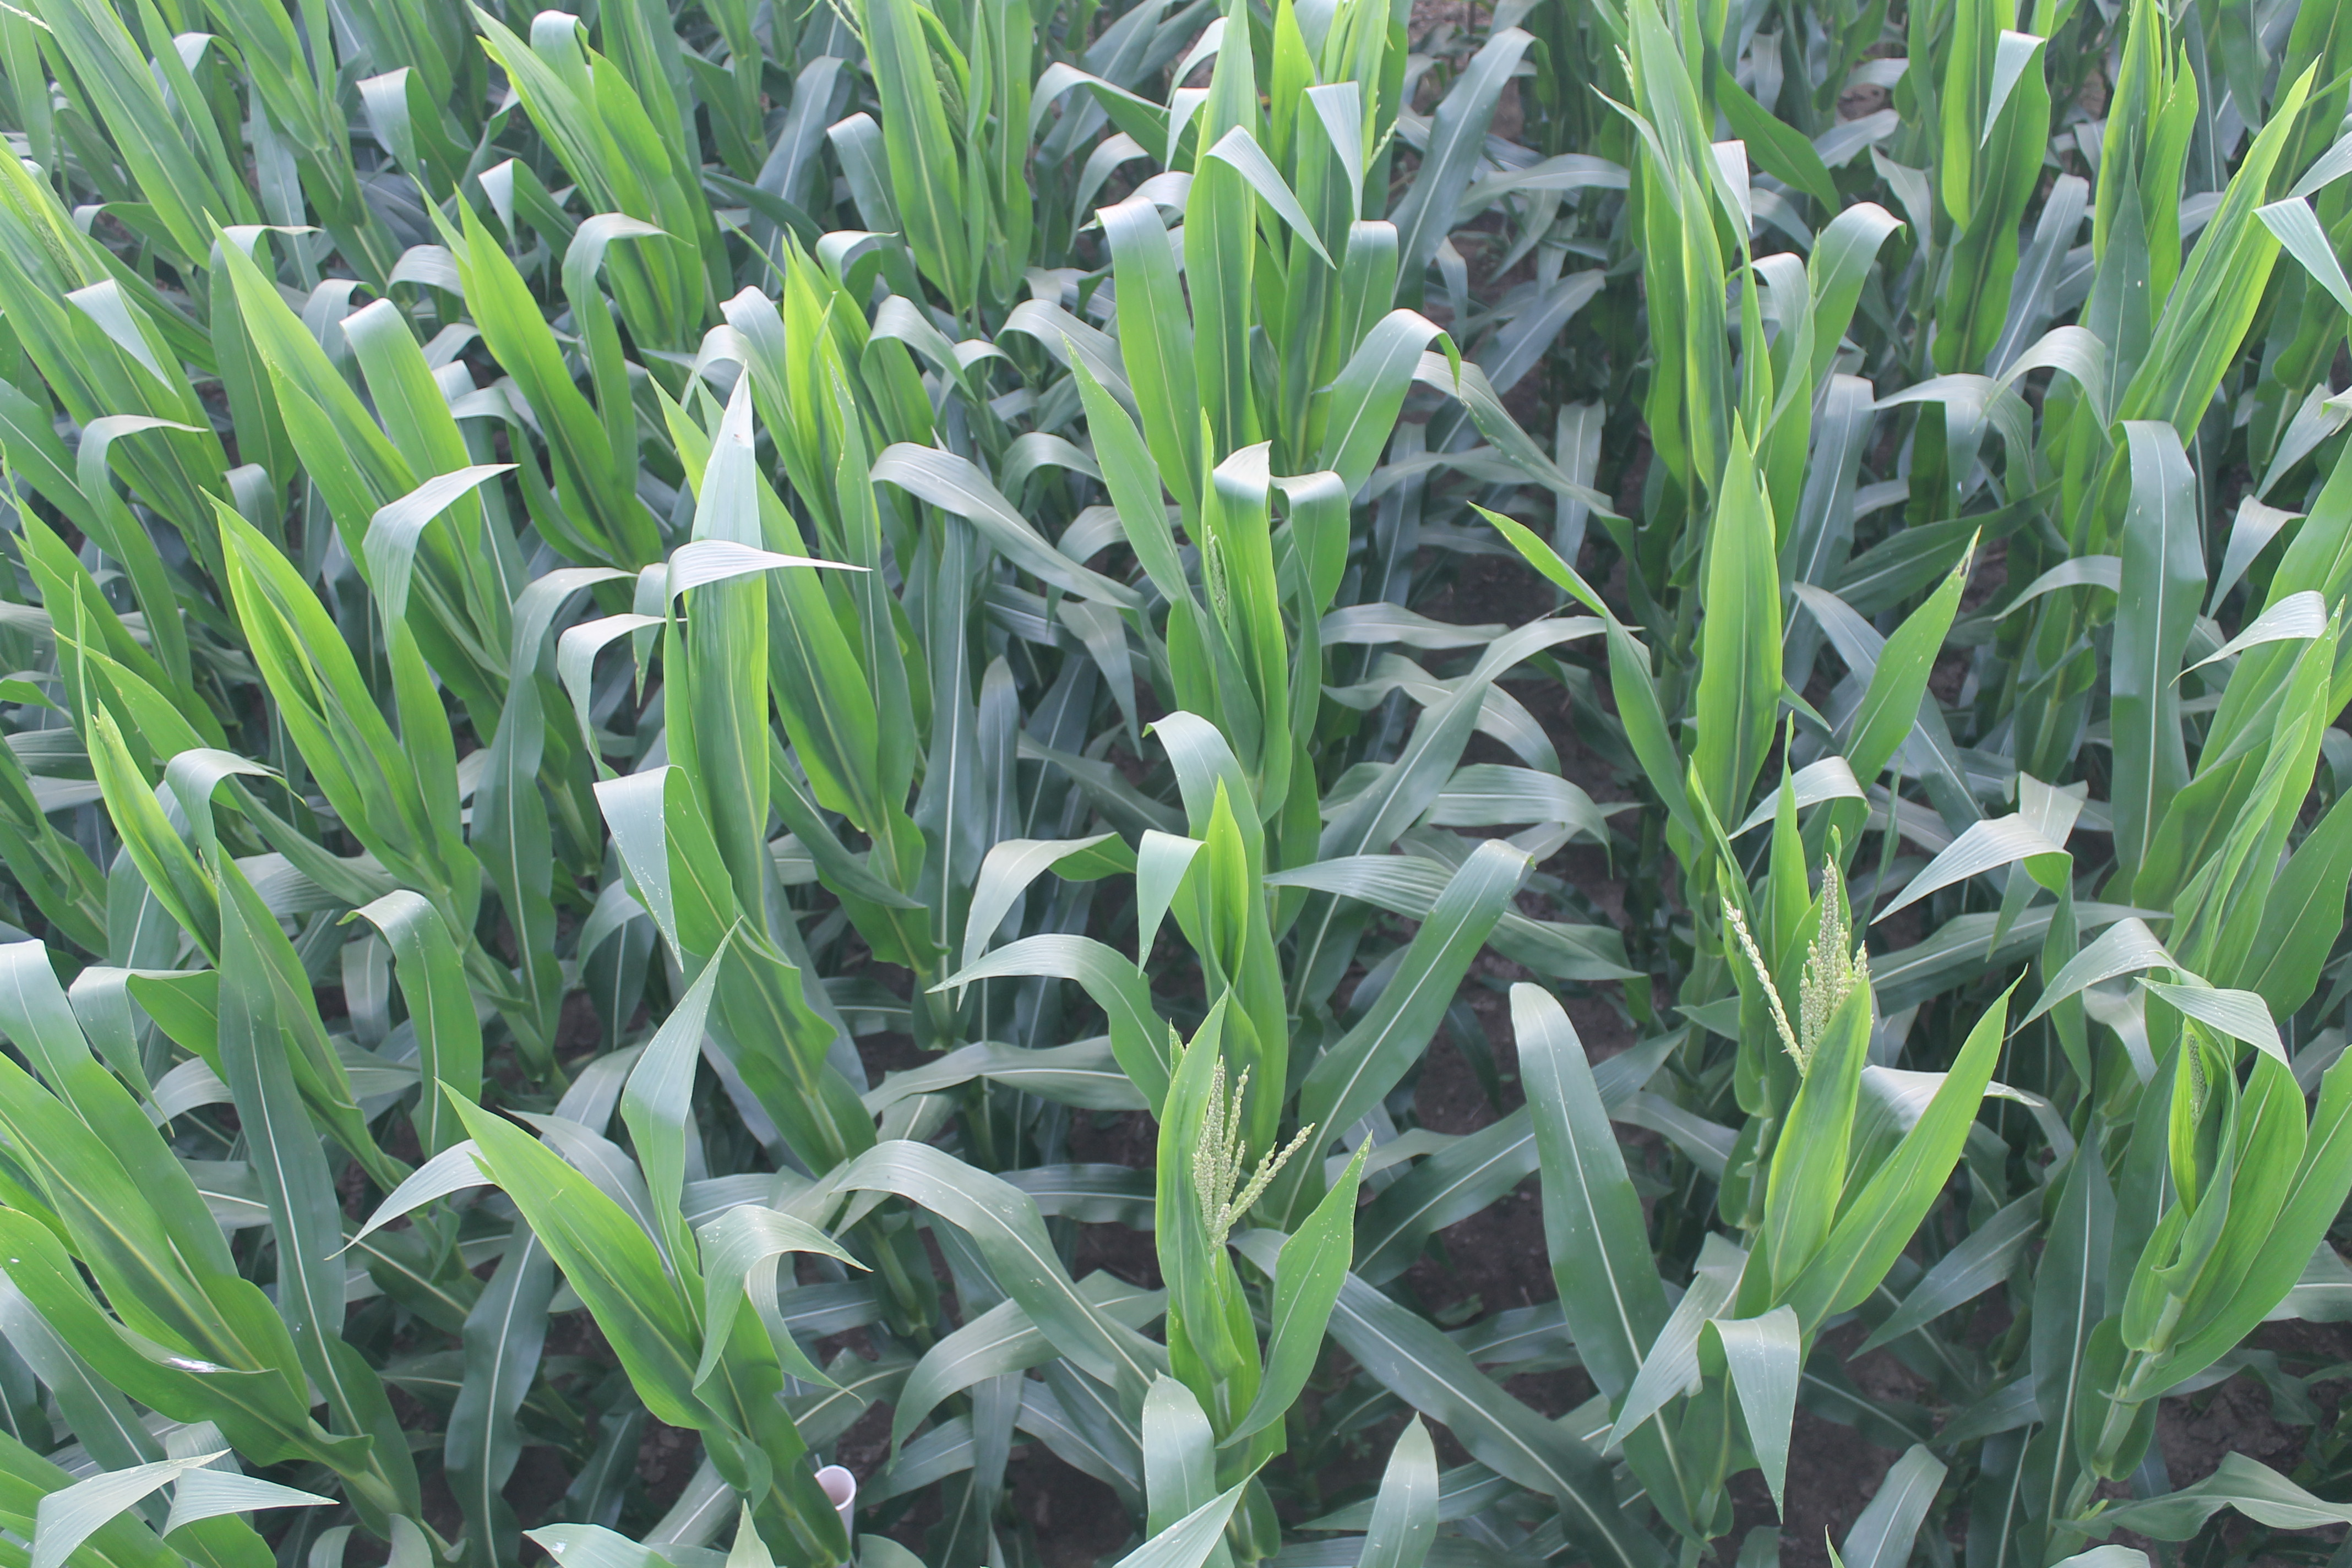Maize: (1725, 857, 1876, 1074), (1195, 1053, 1321, 1249)
